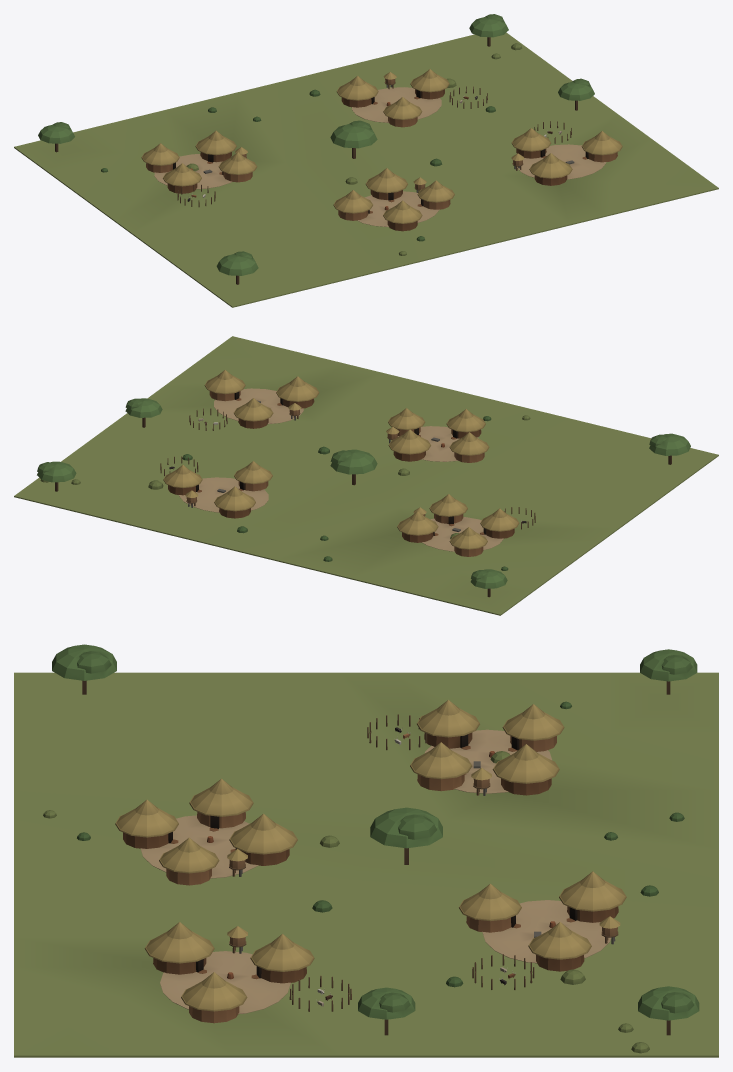
The model's file is commoners-village.glb.
The picture shows the model from 3 angles, top to bottom: view 1: azimuth 30°, elevation 25°; view 2: azimuth 150°, elevation 25°; view 3: azimuth 270°, elevation 25°; orthographic projection. The views are drawn at different scales.
Visible parts, largest first — view 1: p0_ground, p1_homesteads, p2_trees; view 2: p0_ground, p1_homesteads, p2_trees; view 3: p0_ground, p1_homesteads, p2_trees.
Part boxes in pixels (x1,y1,x2,y2): p0_ground: [14, 32, 718, 307]; p1_homesteads: [141, 69, 622, 231]; p2_trees: [38, 14, 594, 284]; p0_ground: [14, 336, 718, 615]; p1_homesteads: [160, 370, 535, 556]; p2_trees: [37, 398, 690, 597]; p0_ground: [14, 672, 718, 1057]; p1_homesteads: [115, 700, 626, 1023]; p2_trees: [43, 644, 699, 1053].
Bounding box in the file's own units: 90 × 5.94 × 70.
